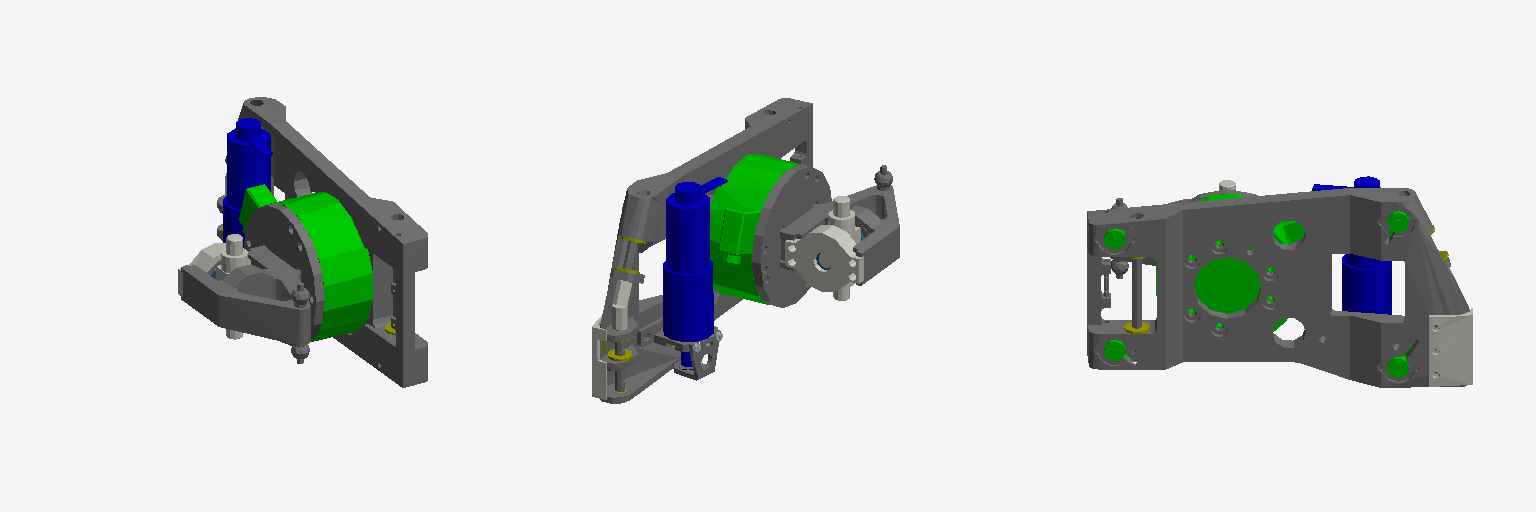
3 renders of one model, left to right at view 1: azimuth 30°, elevation 25°; view 2: azimuth 150°, elevation 25°; view 3: azimuth 270°, elevation 25°, orthographic.
Bounding box in the file's own units: 0.1144 × 0.12 × 0.2255.
Materials: 1 (1 with a texture image).